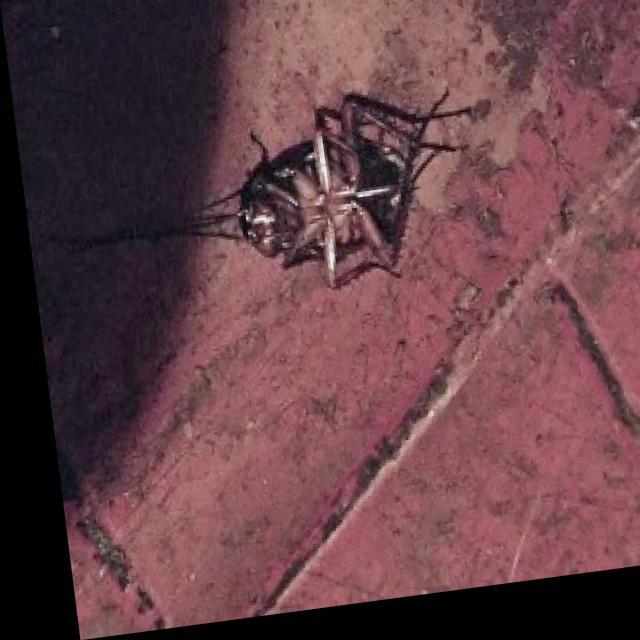cockroach: (188, 83, 478, 291)
